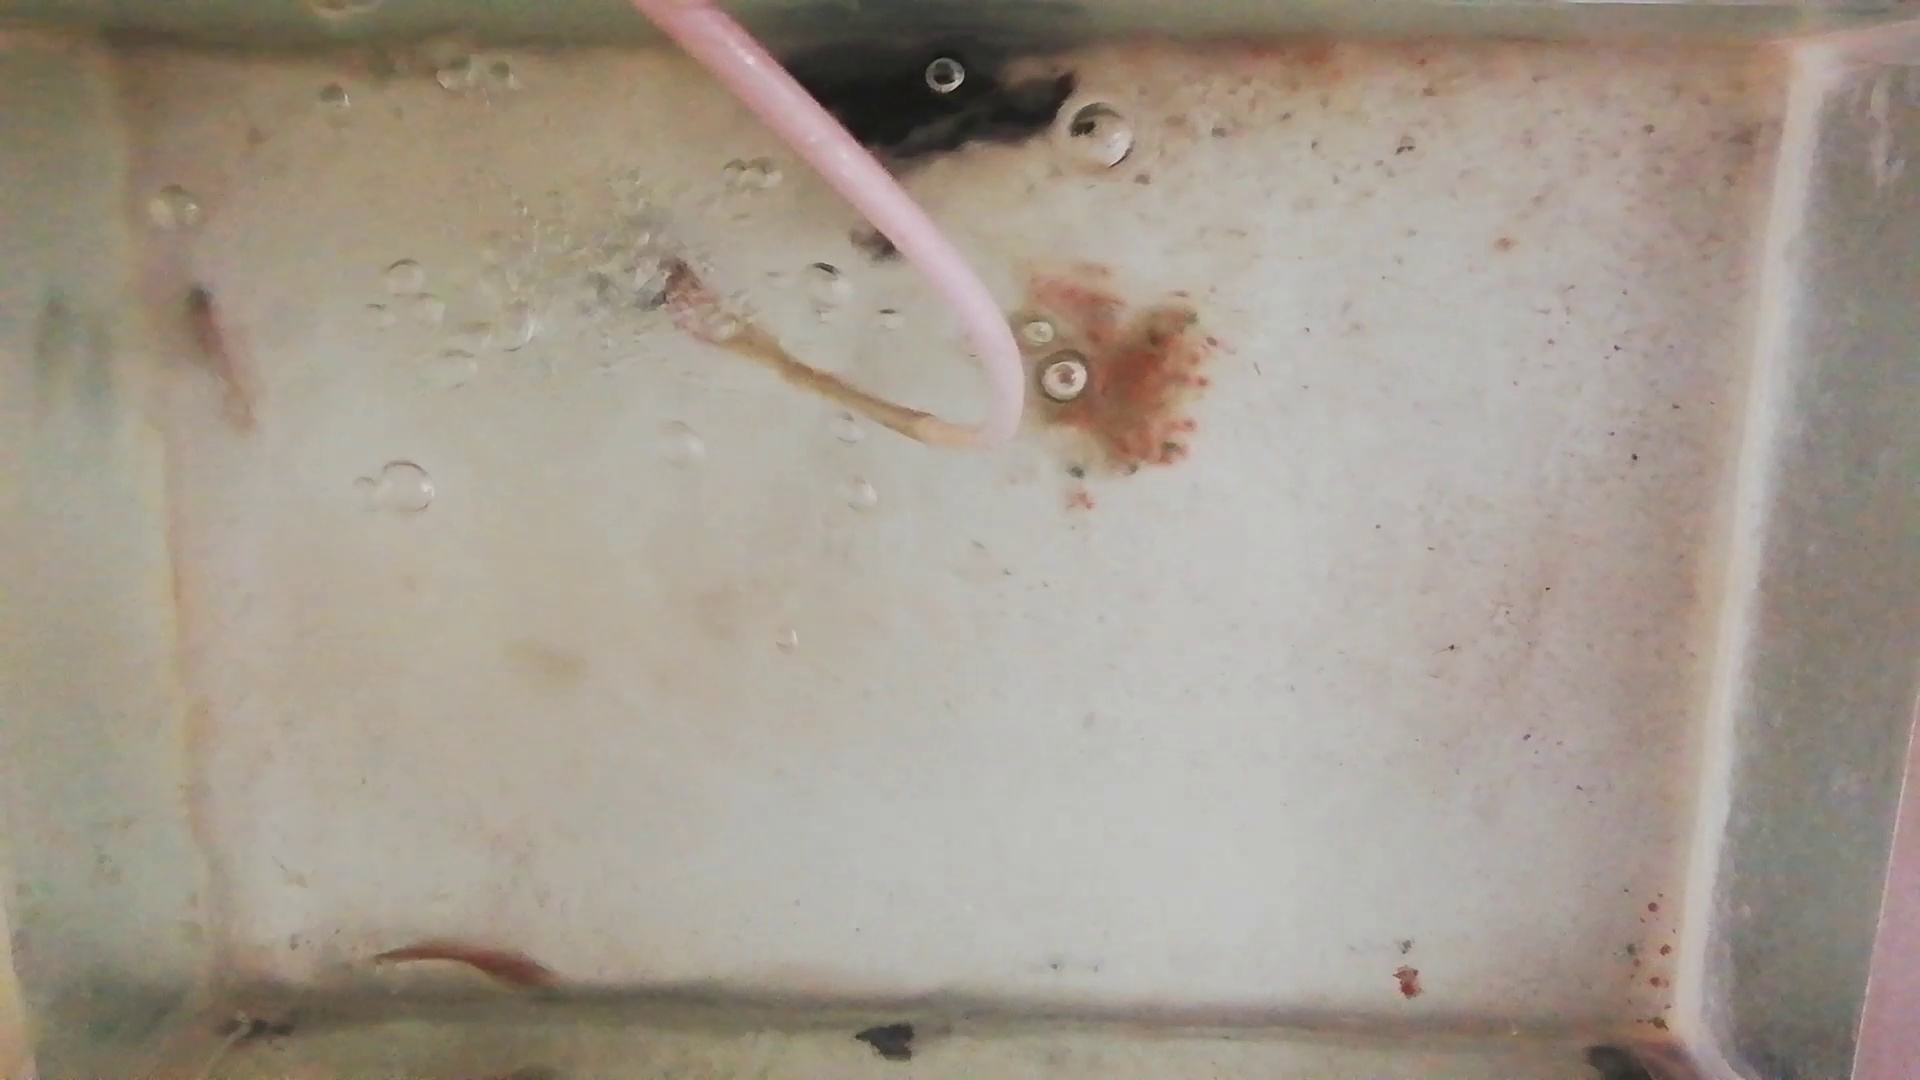fish: (375, 940, 567, 1005), (177, 280, 255, 415)
